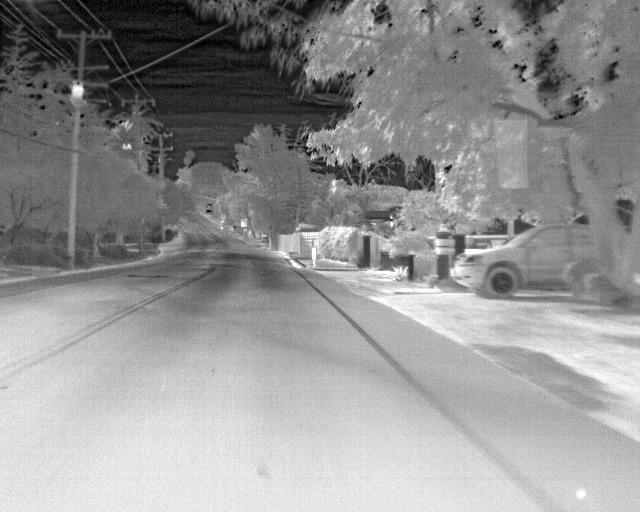car: (449, 222, 590, 301)
